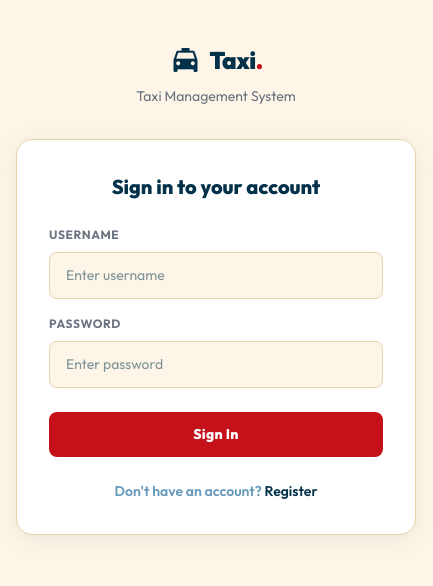
it: displays error message on failed login
Type "admin" into the field with placeholder "Enter username". click: x=216, y=275
box: [49,252,383,298]
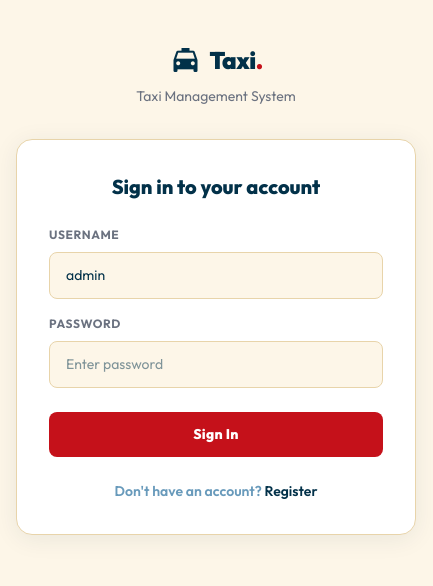
Type "wrongpass" into the password field with placeholder "Enter password". click: x=216, y=364
box: [49,340,383,388]
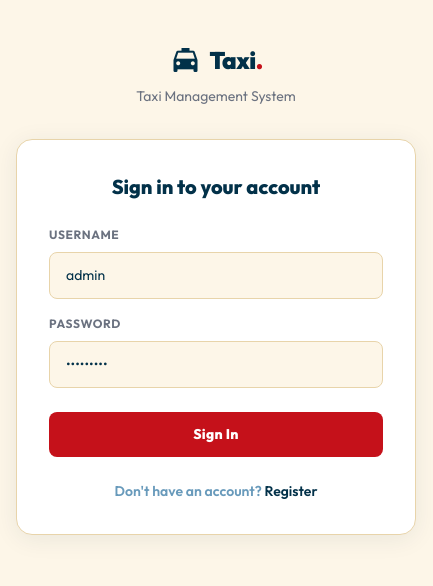
Click the button "Sign In". click: x=216, y=434
box: [49,412,383,456]
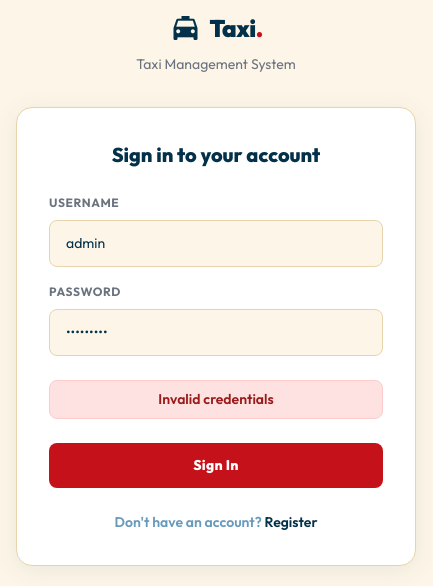
Expected: the text "Invalid credentials" is shown, [49,380,383,419]
